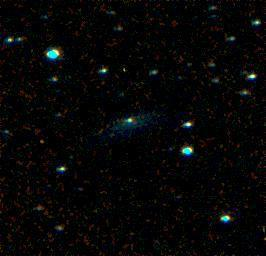star: (24, 127, 54, 157)
